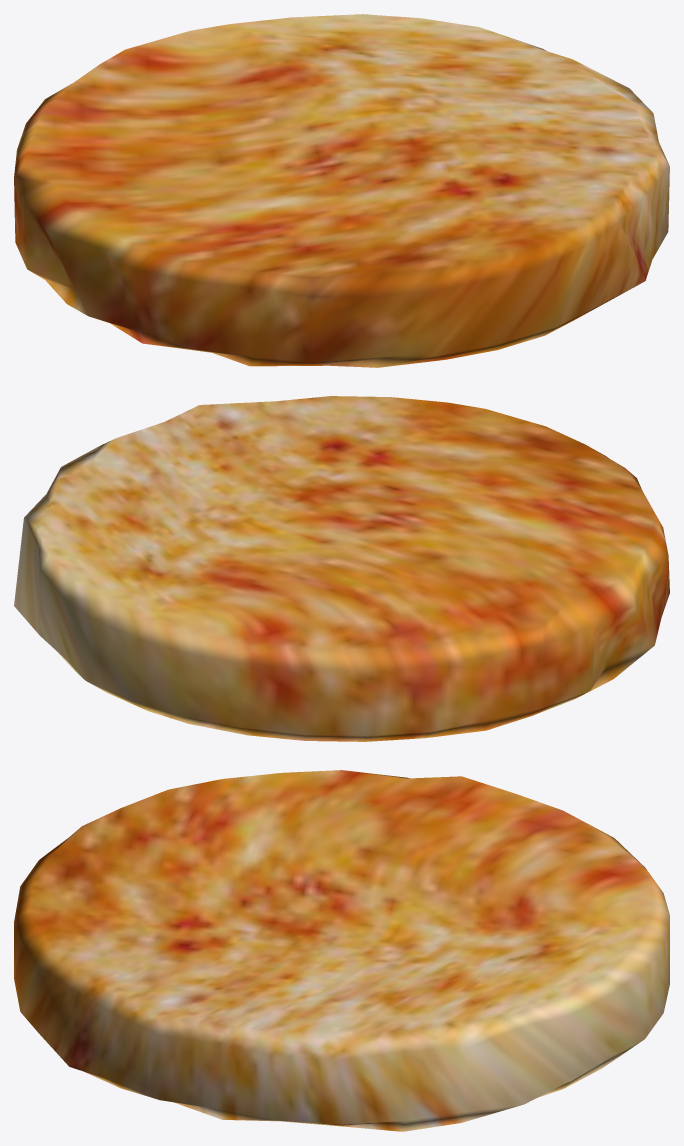
File: ChickenPattyCooked.fbx
3 renders of one model, top to bottom at view 1: azimuth 30°, elevation 25°; view 2: azimuth 150°, elevation 25°; view 3: azimuth 270°, elevation 25°, orthographic. The views are drawn at different scales.
Parts seen in each view (by area): view 1: ChickenPattyCooked; view 2: ChickenPattyCooked; view 3: ChickenPattyCooked.
Boxes of the visible parts, x1,y1,x2,y2 form: ChickenPattyCooked: (14,14,669,367); ChickenPattyCooked: (14,396,669,741); ChickenPattyCooked: (14,770,669,1131).
Bounding box in the file's own units: 424 × 64.21 × 409.
